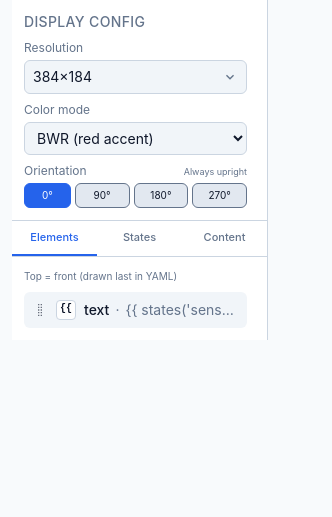
Test: Sidebar tabs under host-fed states › replaces the Simulator tab with States and shows the referenced-states panel
Click the button "States" at (140, 238), box [97, 221, 182, 256]
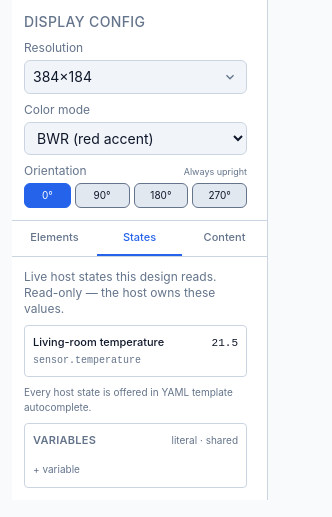
Now the element with test id "referenced-states-panel" is shown, box [24, 268, 247, 415]
Now the text "Living-room temperature" is shown, box [33, 334, 164, 348]
